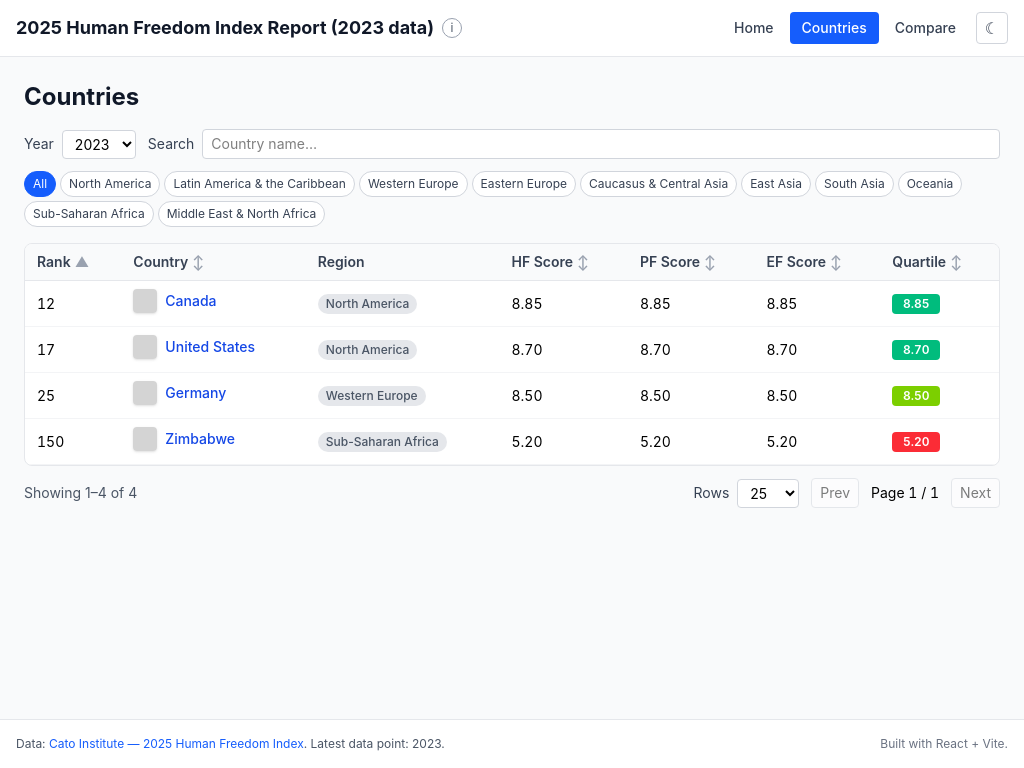
Test: Countries page › typing in search filters rows live
This screenshot has width=1024, height=768.
Type "germ" into the search field at (601, 144), box [202,129,1000,159]
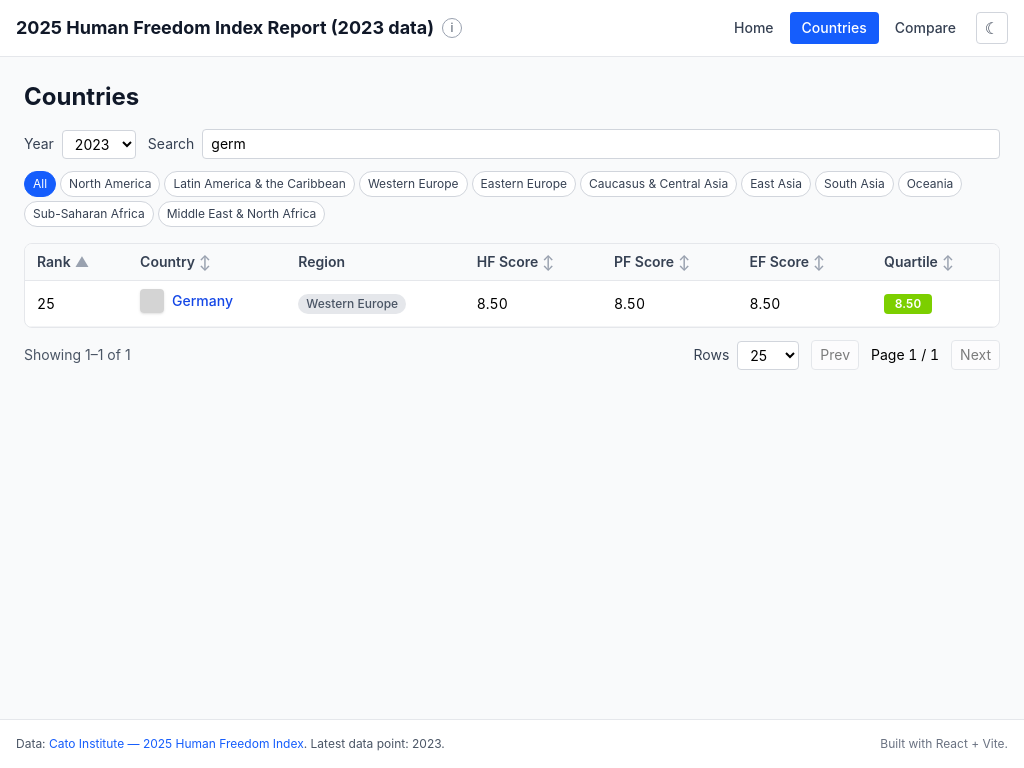
Result: the link "Germany" is shown at [140,289,233,313]
Result: the link "Canada" is gone
